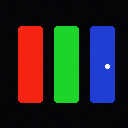0 point: (105, 64, 109, 68)
